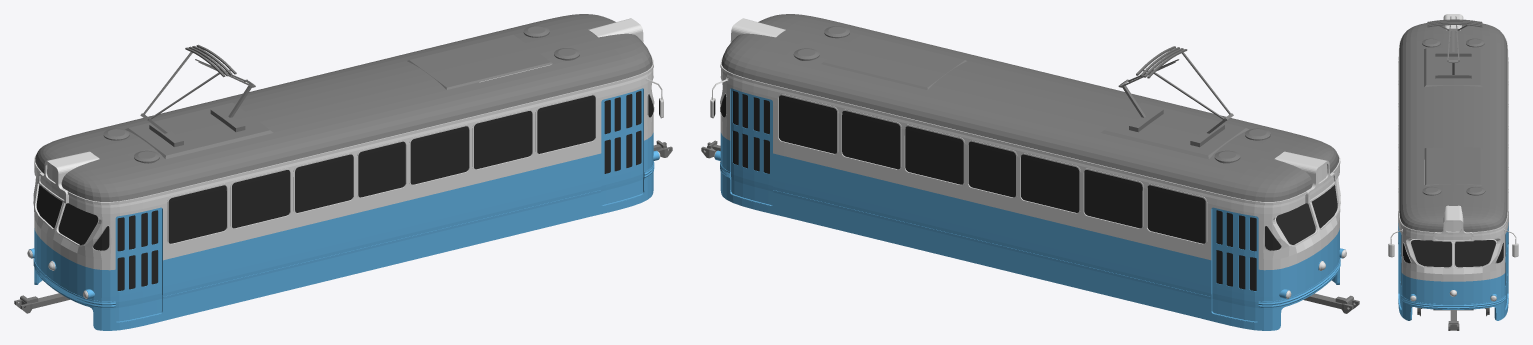
Rendered from spårvagn1.fbx.
The picture shows the model from 3 angles, left to right: view 1: azimuth 30°, elevation 25°; view 2: azimuth 150°, elevation 25°; view 3: azimuth 270°, elevation 25°; orthographic projection. The views are drawn at different scales.
Parts seen in each view (by area): view 1: spårvagn; view 2: spårvagn; view 3: spårvagn.
Part boxes in pixels (x1,y1,x2,y2): spårvagn: [14, 14, 672, 330]; spårvagn: [701, 14, 1359, 330]; spårvagn: [1388, 14, 1518, 330].
Bounding box in the file's own units: 2050 × 685 × 493.
